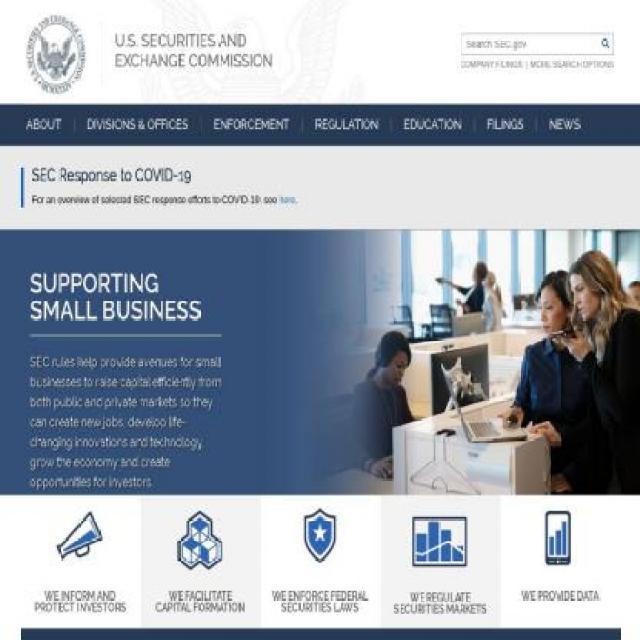button: (380, 494, 500, 628), (20, 495, 140, 627), (140, 495, 260, 627), (260, 495, 380, 627), (500, 494, 620, 615), (101, 21, 293, 81), (26, 15, 86, 94), (74, 118, 201, 132), (201, 118, 302, 132), (303, 118, 392, 132), (392, 118, 474, 132), (474, 118, 537, 132), (537, 118, 592, 132), (26, 118, 74, 132)
field: (460, 33, 614, 55), (597, 33, 614, 55)
